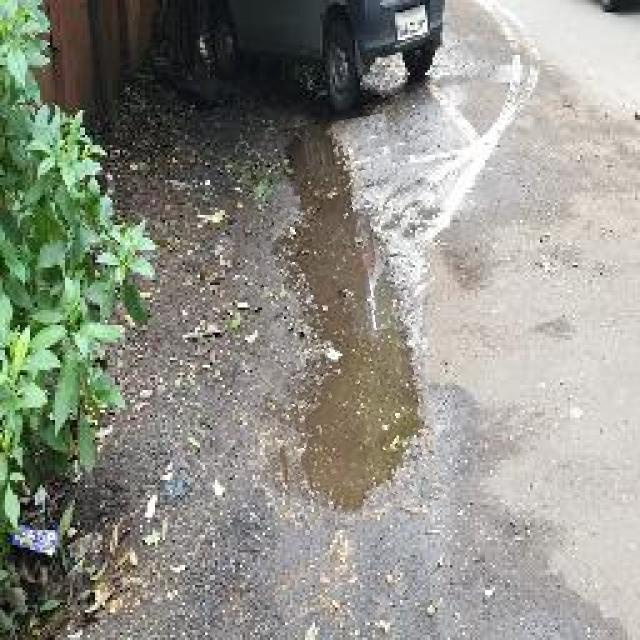puddle: (251, 119, 433, 518)
